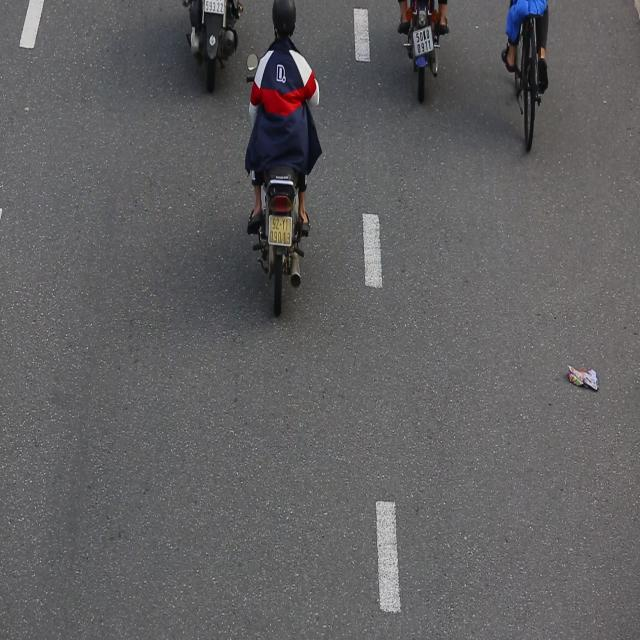motorbike: (243, 2, 325, 326)
